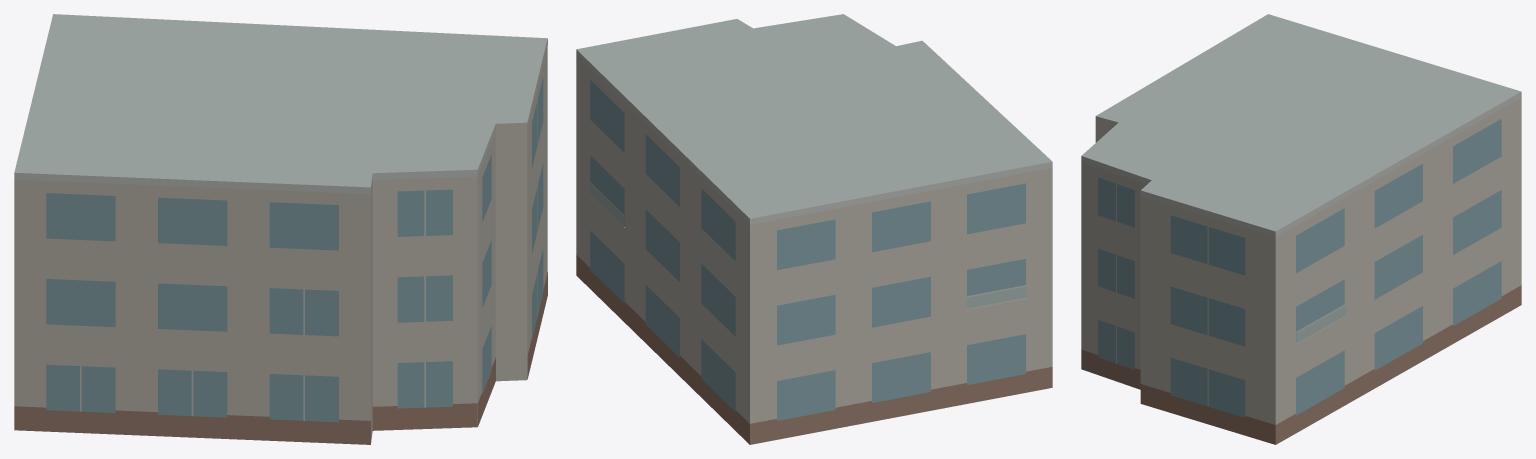
Rendered from survey-upis-32585115.glb.
3 renders of one model, left to right at view 1: azimuth 30°, elevation 25°; view 2: azimuth 150°, elevation 25°; view 3: azimuth 270°, elevation 25°, orthographic. The views are drawn at different scales.
Parts seen in each view (by area): view 1: survey-upis-32585115.tmp; view 2: survey-upis-32585115.tmp; view 3: survey-upis-32585115.tmp.
Boxes of the visible parts, <box> form: survey-upis-32585115.tmp: <box>14,14,547,444</box>; survey-upis-32585115.tmp: <box>576,14,1052,444</box>; survey-upis-32585115.tmp: <box>1081,14,1521,444</box>.
Bounding box in the file's own units: 20.01 × 9.15 × 17.12.
